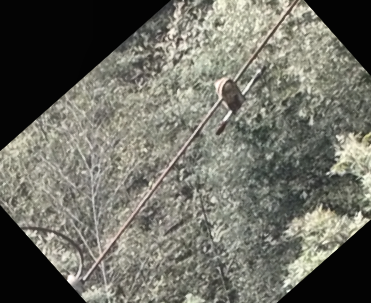damper_defect: (209, 62, 268, 140)
